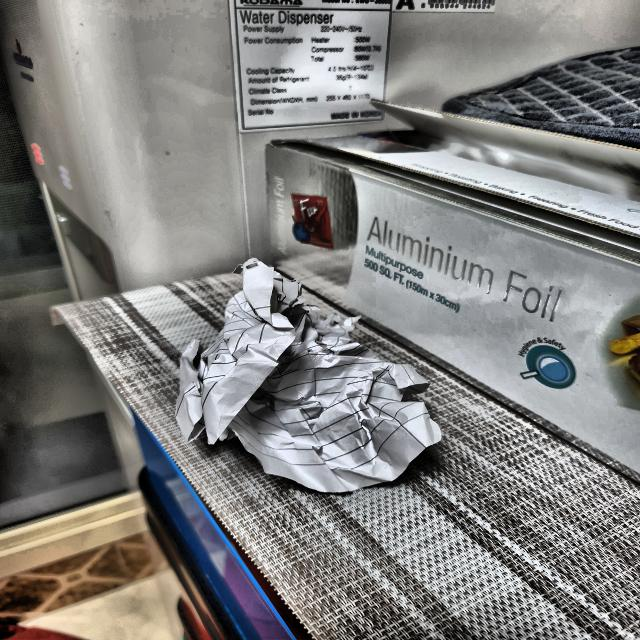Paper: (185, 264, 434, 488)
